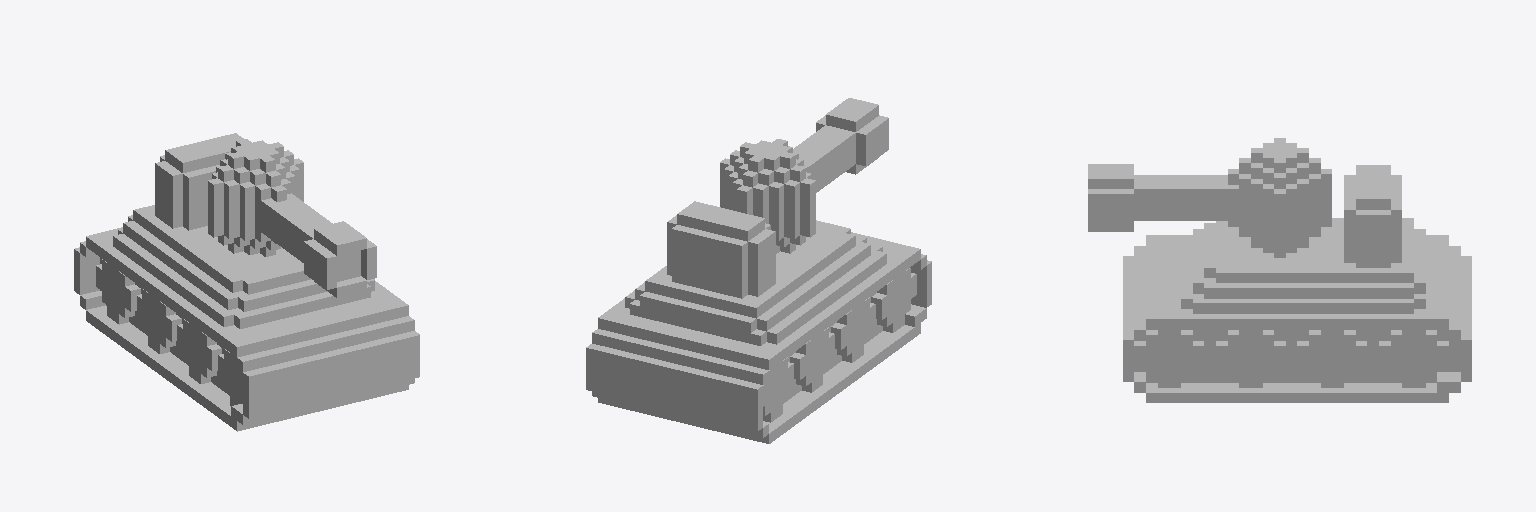
Rendered from tanquinho.obj.
3 renders of one model, left to right at view 1: azimuth 30°, elevation 25°; view 2: azimuth 150°, elevation 25°; view 3: azimuth 270°, elevation 25°, orthographic.
Visible parts, largest first — view 1: object 1; view 2: object 1; view 3: object 1.
Part boxes in pixels (x1,y1,x2,y2): object 1: (74, 133, 419, 431); object 1: (586, 98, 931, 443); object 1: (1088, 138, 1471, 402).
Size of the model in its own units: 1.7 by 2 by 3.3.